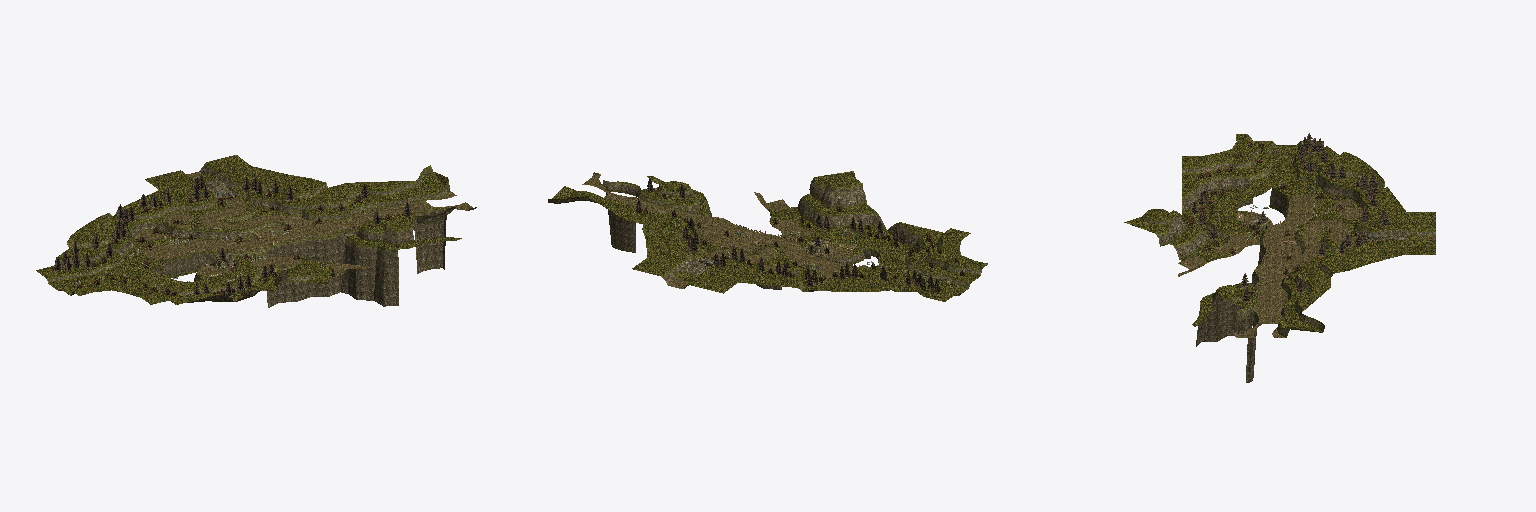
3 views of the same model, side by side, from view 1: azimuth 30°, elevation 25°; view 2: azimuth 150°, elevation 25°; view 3: azimuth 270°, elevation 25° (orthographic).
Visible parts, largest first — view 1: Object.7, Object.1, Object.14, Object.3, Object.5, Object.129; view 2: Object.1, Object.129, Object.184; view 3: Object.7, Object.129, Object.151, Object.1.
Part boxes in pixels (left/top/right/bottom): Object.7: left=355, top=250, right=397, bottom=306; Object.1: left=205, top=173, right=446, bottom=271; Object.14: left=297, top=239, right=340, bottom=301; Object.3: left=272, top=242, right=309, bottom=302; Object.5: left=335, top=236, right=356, bottom=299; Object.129: left=221, top=166, right=286, bottom=185; Object.1: left=606, top=193, right=704, bottom=275; Object.129: left=646, top=241, right=689, bottom=265; Object.184: left=827, top=187, right=875, bottom=228; Object.7: left=1200, top=299, right=1233, bottom=341; Object.129: left=1366, top=240, right=1406, bottom=262; Object.151: left=1196, top=162, right=1242, bottom=194; Object.1: left=1246, top=230, right=1406, bottom=382.
Size of the model in its own units: 217 by 45 by 147.
Materials: 15 (15 with a texture image).